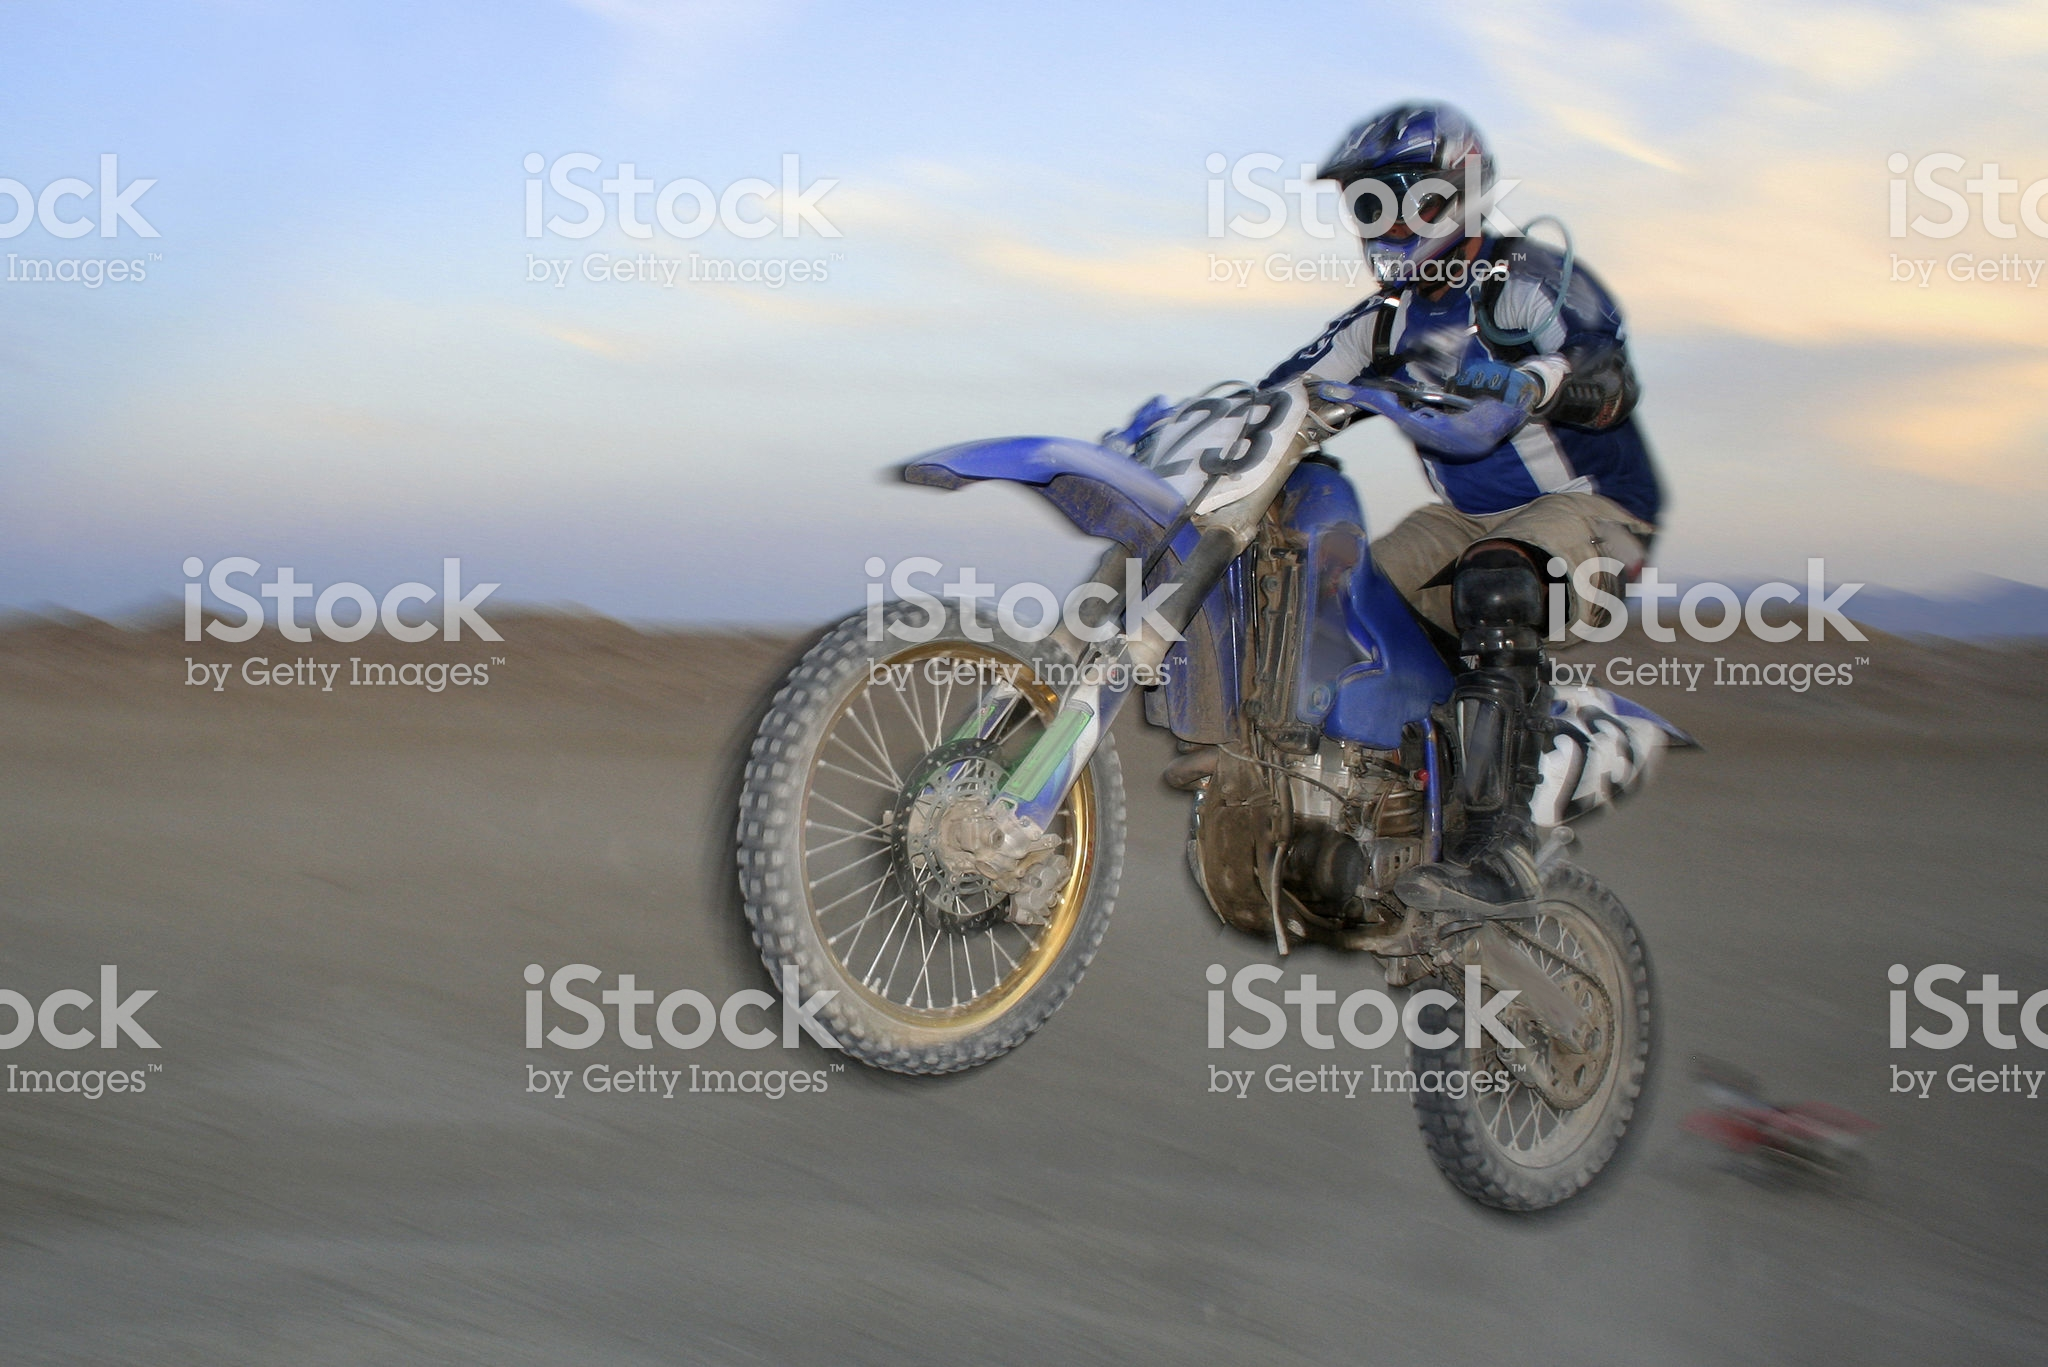helmet: (1313, 101, 1507, 298)
